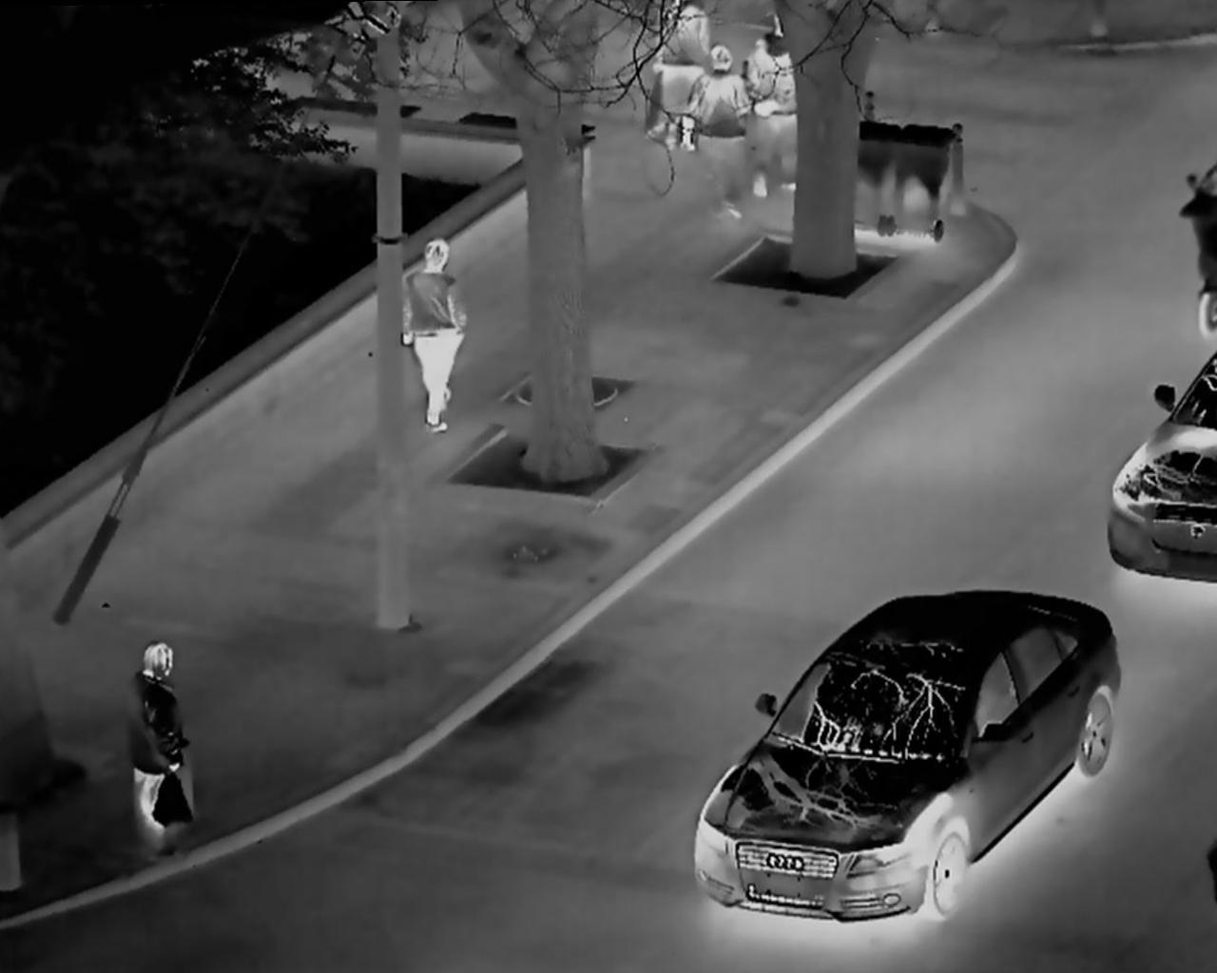person: (114, 630, 215, 866), (400, 228, 476, 432), (747, 15, 804, 214), (690, 41, 750, 230)
